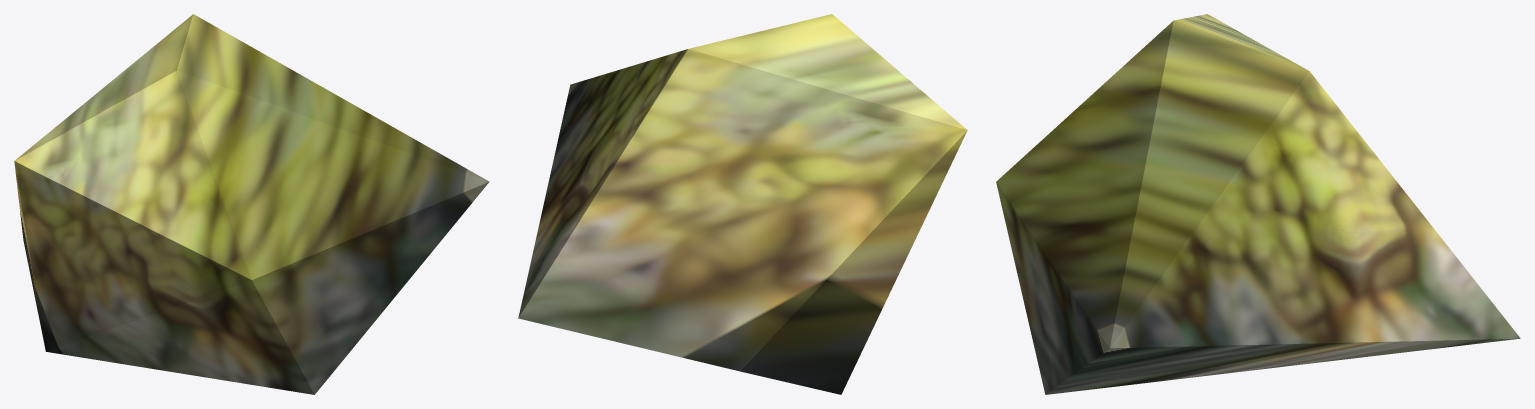
The model's file is Ridge_1_Rock_Floor_2.gltf.
The picture shows the model from 3 angles, left to right: view 1: azimuth 30°, elevation 25°; view 2: azimuth 150°, elevation 25°; view 3: azimuth 270°, elevation 25°; orthographic projection. The views are drawn at different scales.
Parts seen in each view (by area): view 1: Ridge_1_Rock_Floor_2; view 2: Ridge_1_Rock_Floor_2; view 3: Ridge_1_Rock_Floor_2.
Part boxes in pixels (bbox=[...]): Ridge_1_Rock_Floor_2: bbox=[14, 14, 489, 394]; Ridge_1_Rock_Floor_2: bbox=[518, 14, 967, 394]; Ridge_1_Rock_Floor_2: bbox=[996, 14, 1520, 394].
Size of the model in its own units: 1.64 by 1.13 by 1.57.
Materials: 1 (1 with a texture image).
